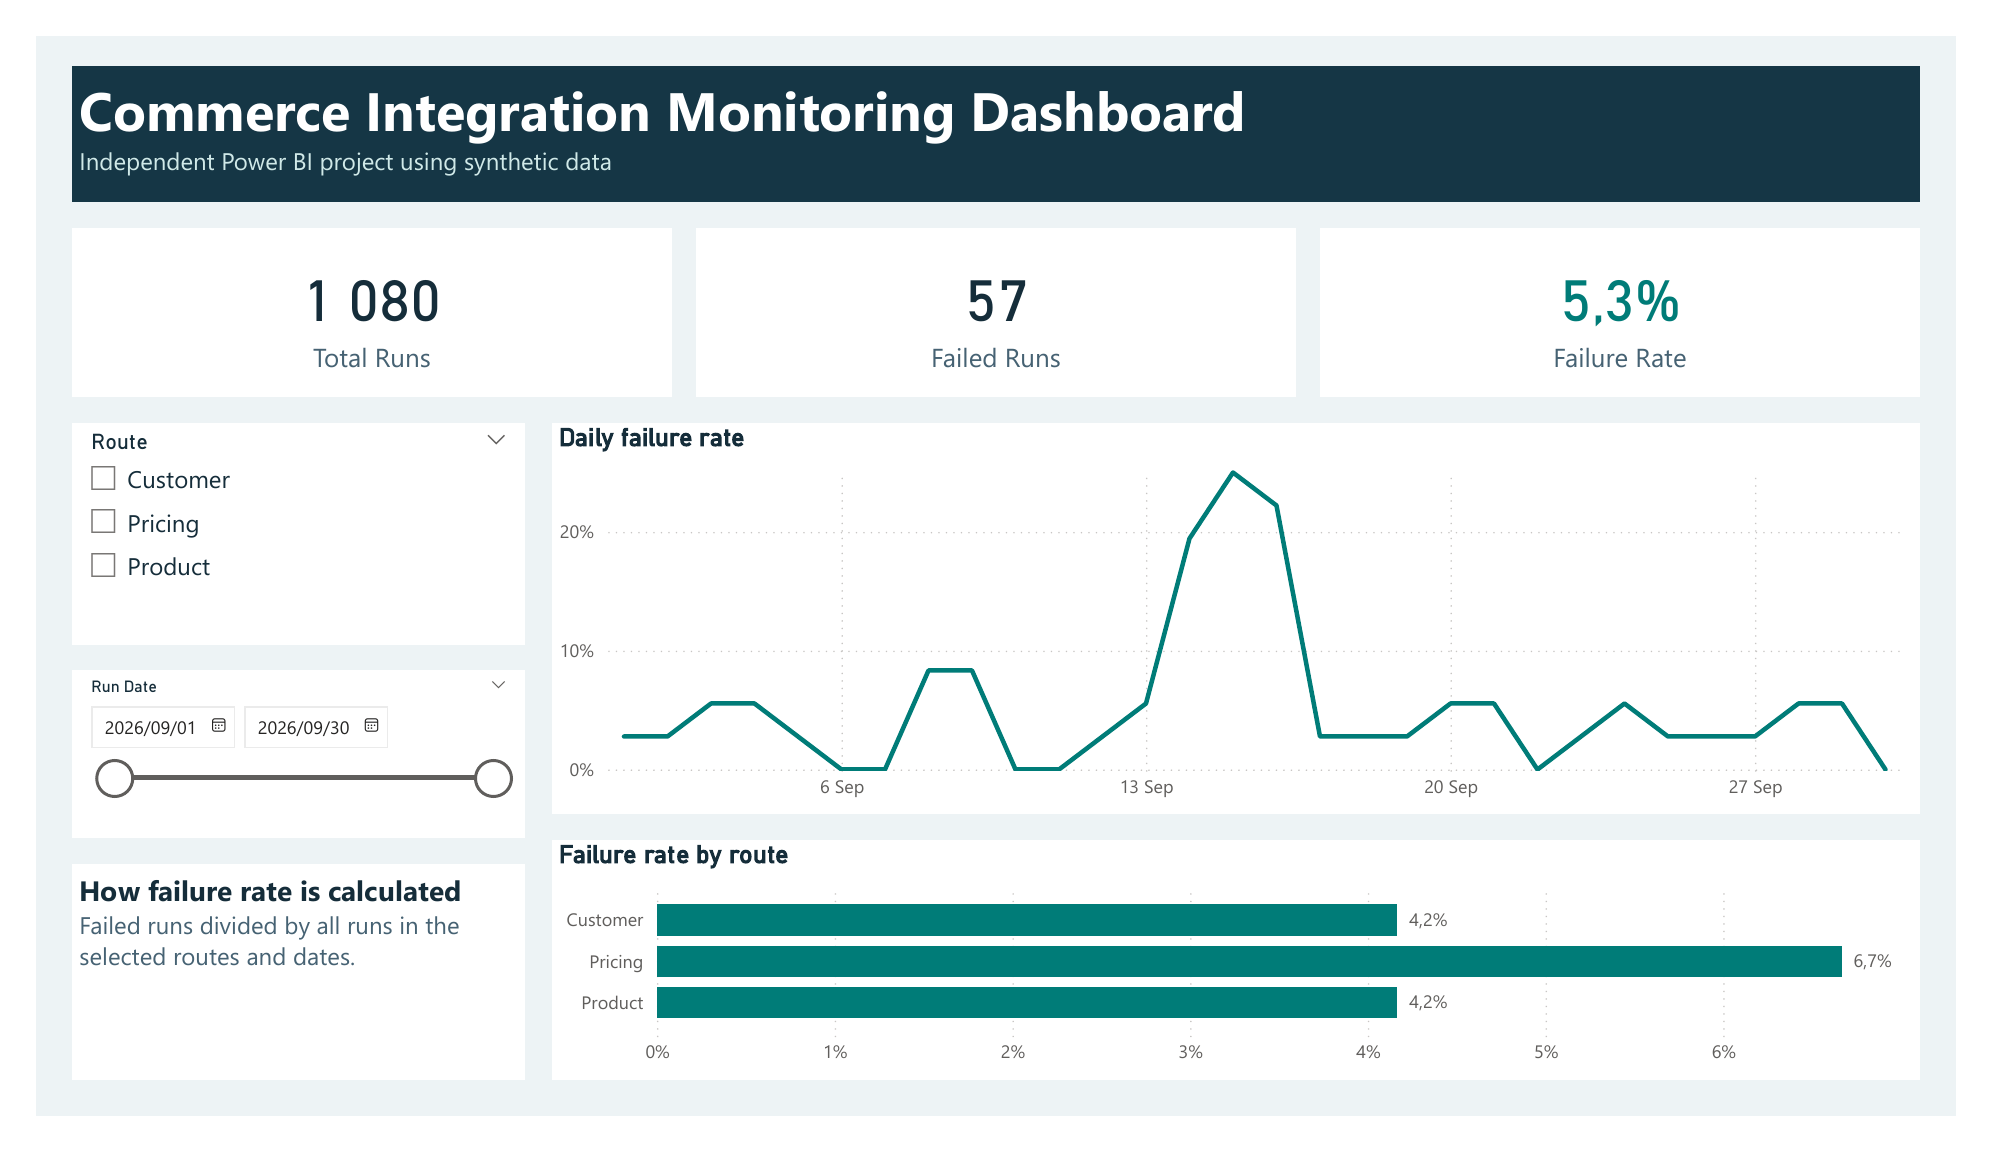

This screenshot's page, from the dashboard's own definition file:
{"tool":"powerbi","page":{"name":"Sync monitoring","canvas":[1280,720],"ordinal":0},"visuals":[{"type":"textbox","box":[24,20,1232,91],"z":1000},{"type":"card","fields":{"Values":["Run Log.Total Runs"]},"box":[24,128,400,113],"z":2000},{"type":"card","fields":{"Values":["Run Log.Failed Runs"]},"box":[440,128,400,113],"z":3000},{"type":"card","fields":{"Values":["Run Log.Failure Rate"]},"box":[856,128,400,113],"z":4000},{"type":"slicer","fields":{"Values":["Routes.Route"]},"box":[24,258,302,148],"z":5000},{"type":"slicer","fields":{"Values":["Run Log.Run Date"]},"box":[24,423,302,112],"z":6000},{"type":"textbox","box":[24,552,302,144],"z":7000},{"type":"lineChart","title":"Daily failure rate","fields":{"Category":["Run Log.Run Date"],"Y":["Run Log.Failure Rate"]},"box":[344,258,912,261],"z":8000},{"type":"clusteredBarChart","title":"Failure rate by route","fields":{"Category":["Routes.Route"],"Y":["Run Log.Failure Rate"]},"box":[344,536,912,160],"z":9000}]}

Visuals, with their boxes in screenshot pixels (x1, y1, x2, y2), scaled from the page's 1280x720 canvas onto the 1992x1152 screenshot:
textbox: 37:32:1955:178
card - Run Log.Total Runs: 37:205:660:386
card - Run Log.Failed Runs: 685:205:1307:386
card - Run Log.Failure Rate: 1332:205:1955:386
slicer - Routes.Route: 37:413:507:650
slicer - Run Log.Run Date: 37:677:507:856
textbox: 37:883:507:1114
"Daily failure rate" lineChart: 535:413:1955:830
"Failure rate by route" clusteredBarChart: 535:858:1955:1114
